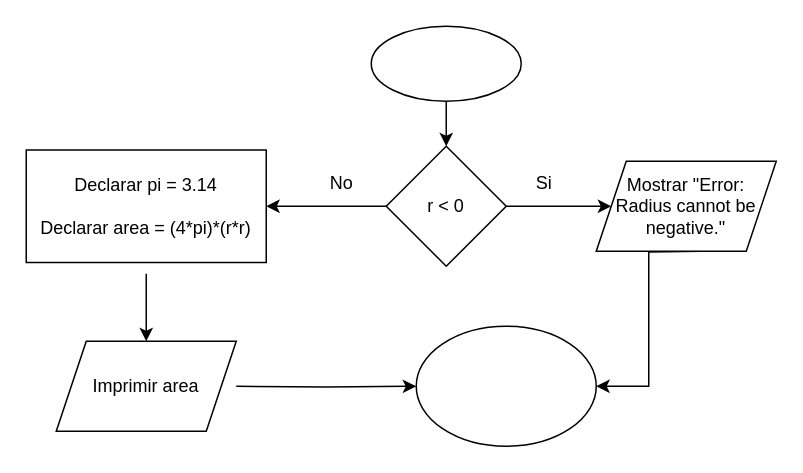
The diagram is 803 pixels wide and 473 high, and some of its shapes have lost their labels. The centre of each missing label's shape, as x and y in pixels:
"Fin" belongs at [505,385].
"Inicio" belongs at [445,63].
